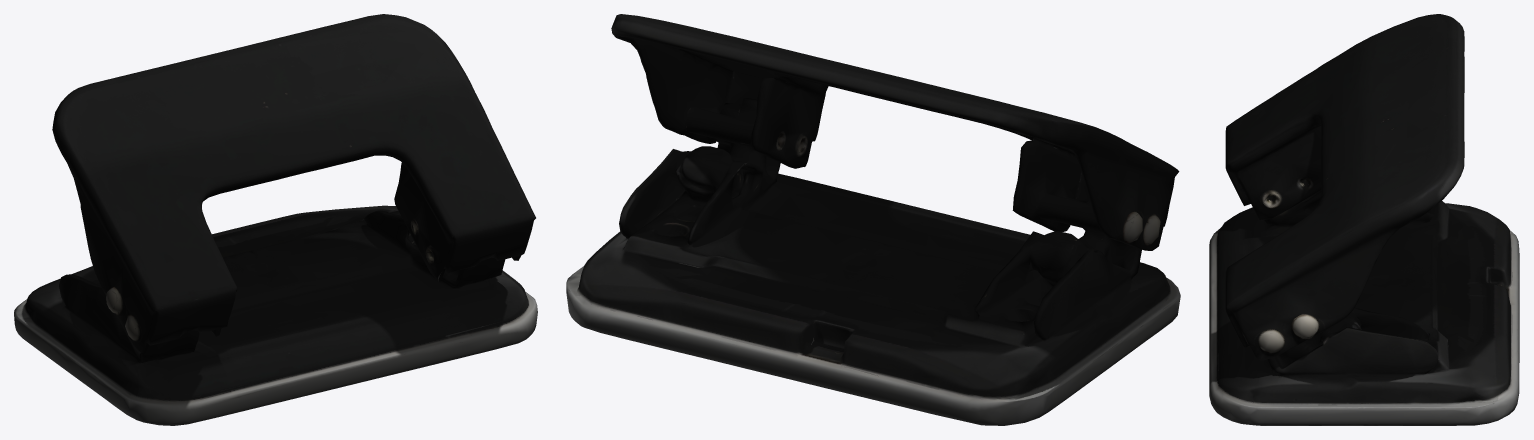
Rendered from delgecbake.fbx.
3 renders of one model, left to right at view 1: azimuth 30°, elevation 25°; view 2: azimuth 150°, elevation 25°; view 3: azimuth 270°, elevation 25°, orthographic. The views are drawn at different scales.
Parts seen in each view (by area): view 1: delgec_low; view 2: delgec_low; view 3: delgec_low.
Boxes of the visible parts, <box> form: delgec_low: <box>14,14,537,425</box>; delgec_low: <box>566,14,1180,425</box>; delgec_low: <box>1209,14,1519,425</box>.
Size of the model in its own units: 1.91 by 1.1 by 1.28.
